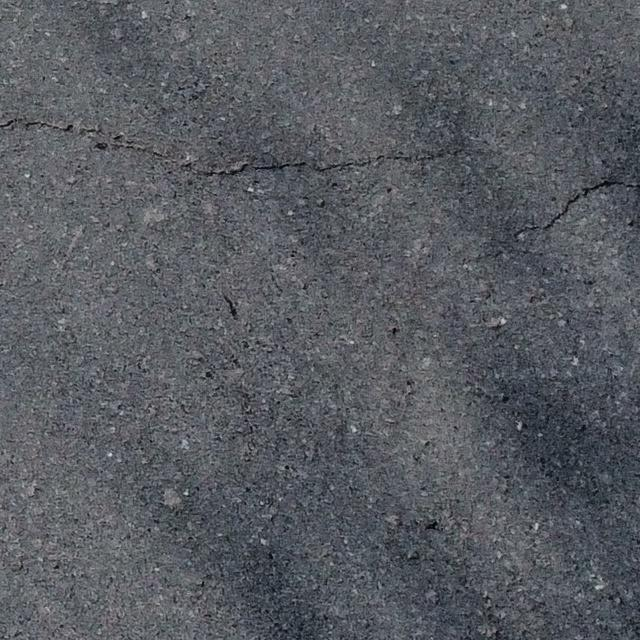TransverseCrack: (1, 118, 465, 181), (512, 179, 640, 240)
